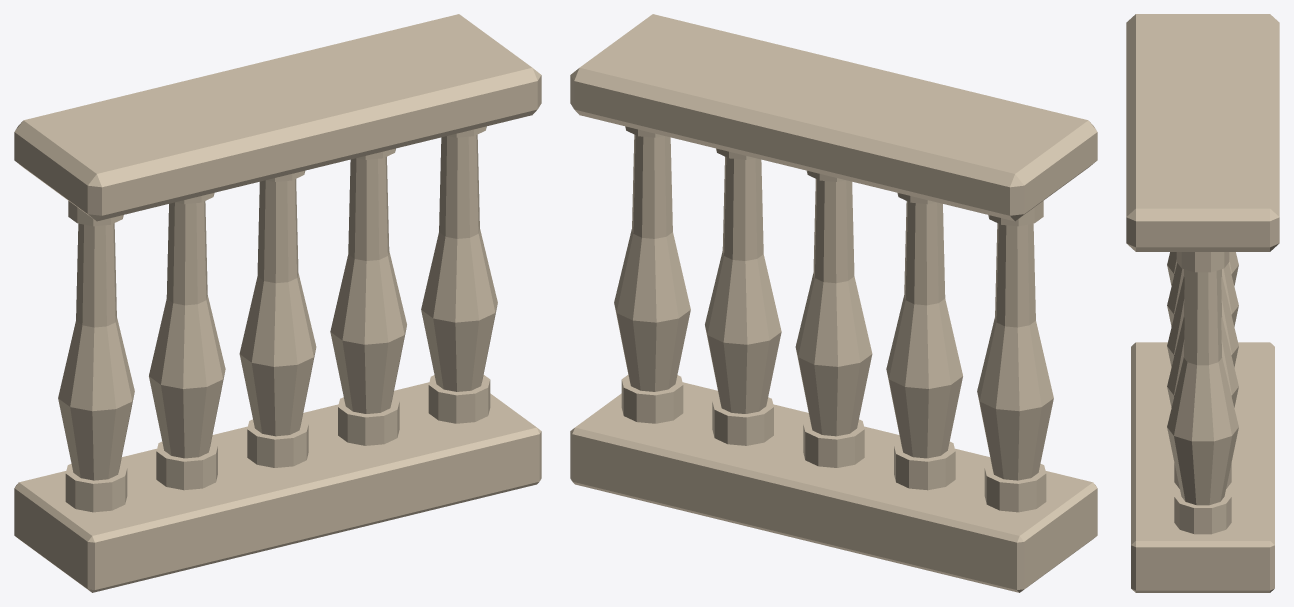
The model's file is balustrade.glb.
The picture shows the model from 3 angles, left to right: view 1: azimuth 30°, elevation 25°; view 2: azimuth 150°, elevation 25°; view 3: azimuth 270°, elevation 25°; orthographic projection. The views are drawn at different scales.
Visible parts, largest first — view 1: balustrade; view 2: balustrade; view 3: balustrade.
Boxes of the visible parts, <box> form: balustrade: <box>14,14,541,592</box>; balustrade: <box>570,14,1097,592</box>; balustrade: <box>1126,14,1279,592</box>.
Bounding box in the file's own units: 1 × 0.88 × 0.32.
Materials: 1 (1 with a texture image).
